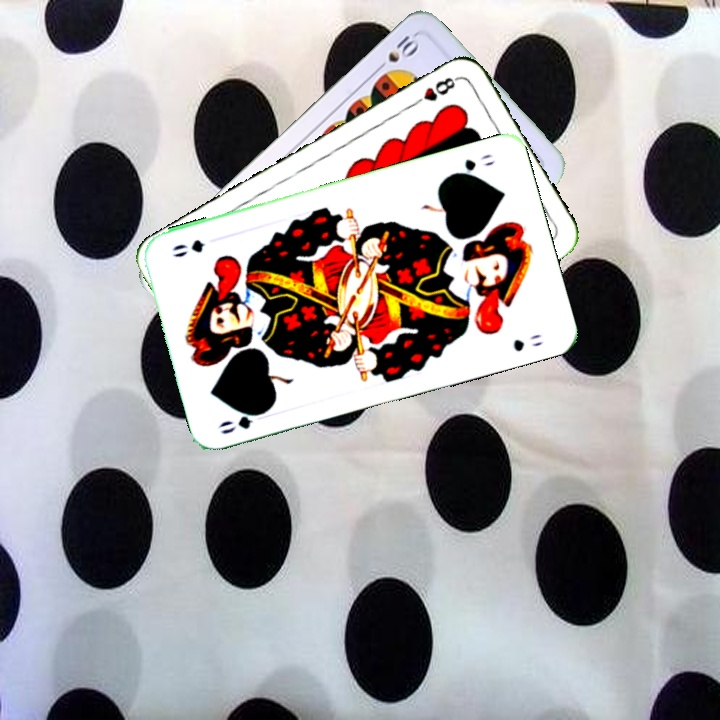GO: (214, 405, 273, 437), (445, 150, 498, 180)
H8: (407, 72, 461, 110)
S10: (371, 30, 422, 75)
